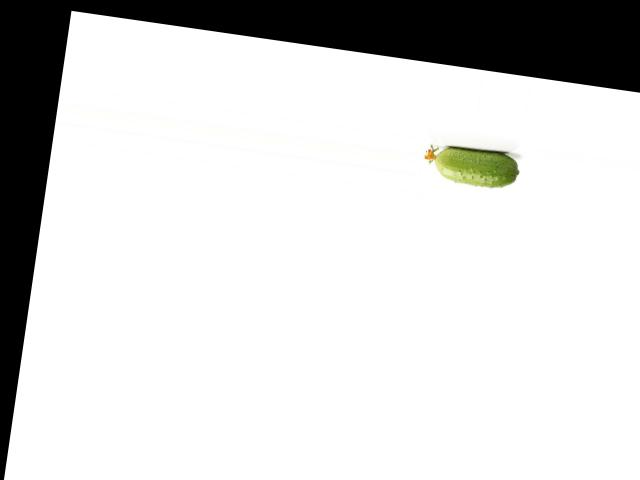cucumber: (422, 141, 522, 191)
